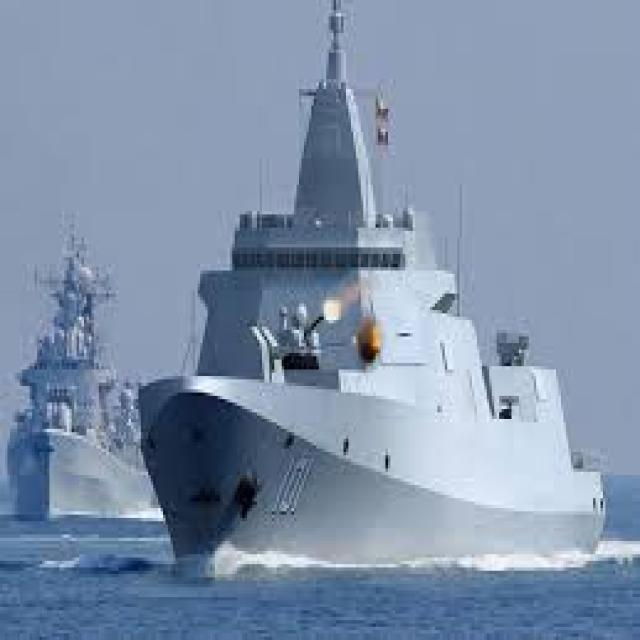navalvessels: (142, 12, 616, 596), (1, 221, 158, 528)
